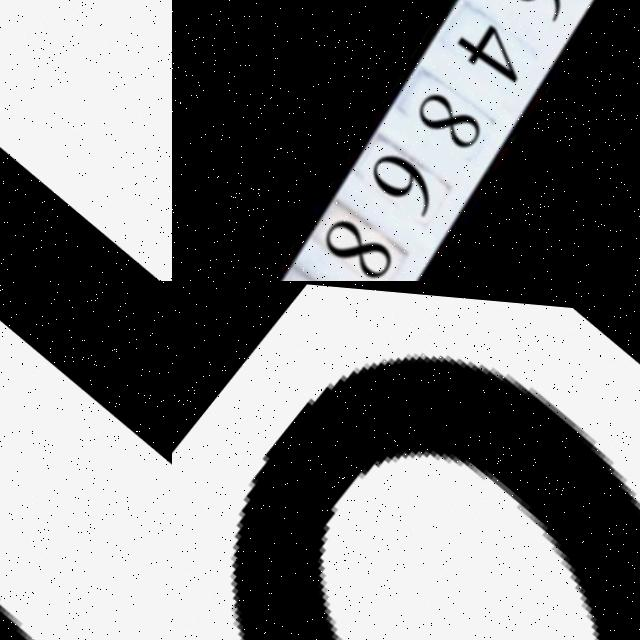0: (266, 256, 367, 281)
4: (438, 0, 548, 101)
6: (353, 123, 459, 229), (484, 0, 590, 30)
7: (5, 0, 172, 281)
8: (403, 64, 500, 162), (309, 193, 408, 281)
L: (0, 290, 172, 640)
O: (226, 346, 640, 640)
